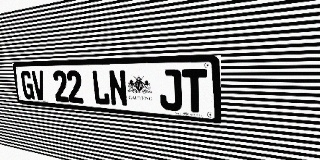2: (66, 70, 83, 103), (52, 70, 69, 102)
G: (20, 71, 35, 100)
J: (158, 69, 182, 111)
L: (91, 70, 110, 106)
N: (108, 70, 128, 107)
T: (182, 69, 208, 113)
V: (31, 71, 46, 101)
